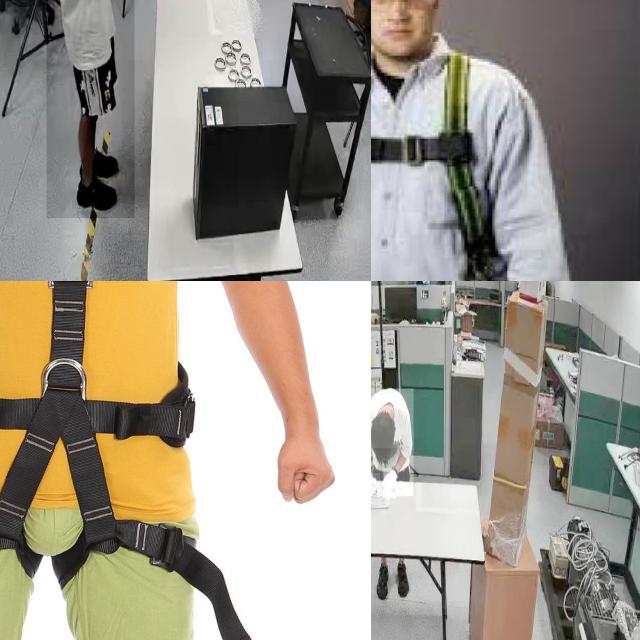Harness: (0, 281, 195, 629), (371, 48, 514, 281)
hand_glove: (383, 468, 397, 500), (371, 473, 380, 506)
head_nohelmet: (371, 410, 394, 449)
person: (46, 0, 135, 219), (371, 388, 413, 497)
shoes: (76, 174, 121, 216), (74, 142, 121, 180), (393, 558, 411, 600), (375, 562, 391, 604)
